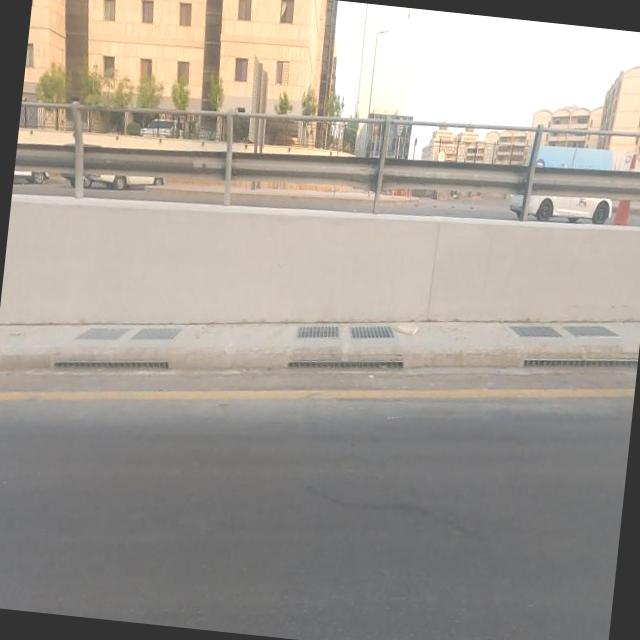debris: (374, 288, 448, 368)
